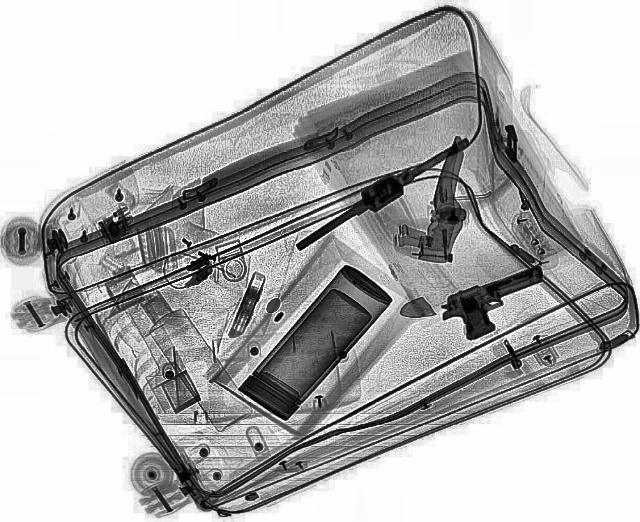Gun: (429, 262, 567, 344)
